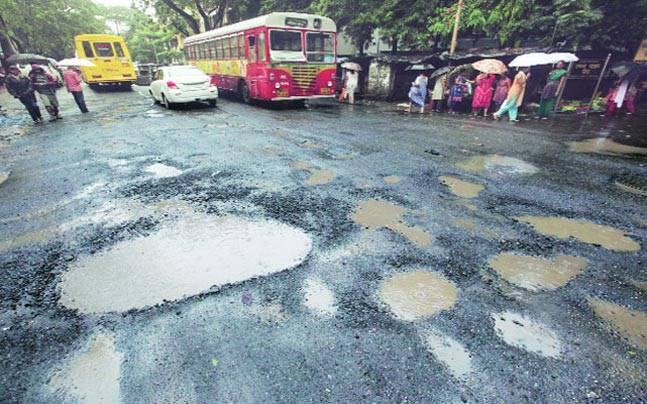pothole: (56, 170, 307, 331), (506, 204, 646, 272), (55, 318, 139, 403), (373, 245, 457, 328), (480, 238, 589, 296), (577, 289, 646, 334), (465, 138, 527, 185), (431, 168, 482, 211)
